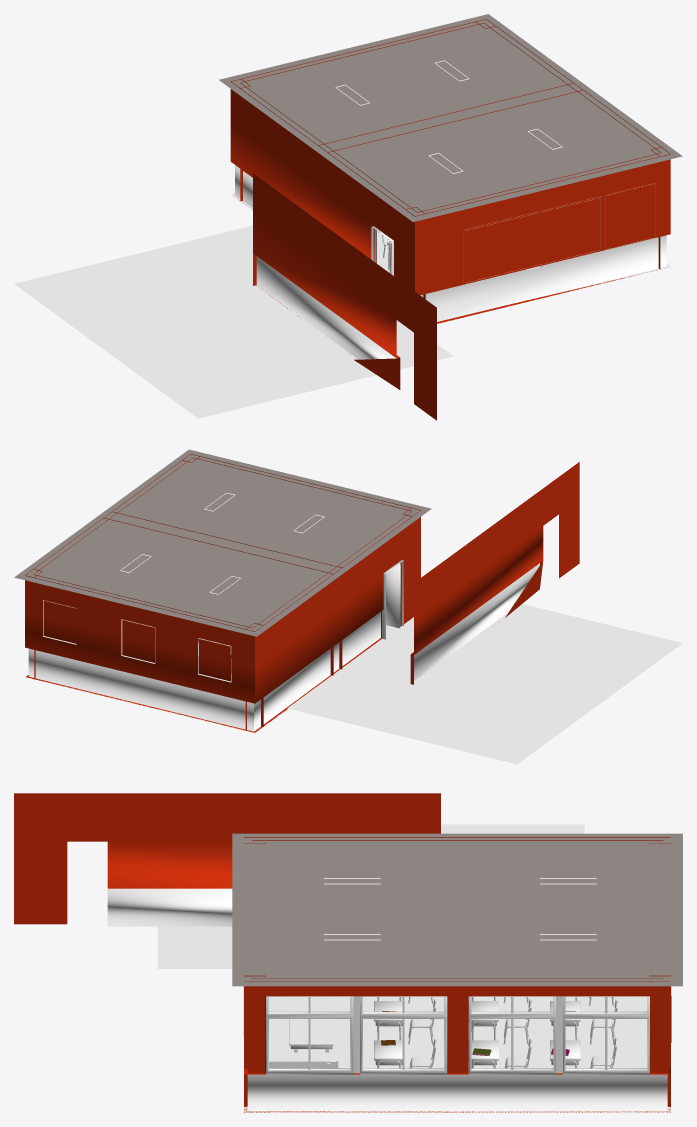
Rendered from school.glb.
3 views of the same model, one above another, from view 1: azimuth 30°, elevation 25°; view 2: azimuth 150°, elevation 25°; view 3: azimuth 270°, elevation 25° (orthographic). The views are drawn at different scales.
Visible parts, largest first — view 1: ceilling_16; view 2: ceilling_16; view 3: ceilling_16.
Part boxes in pixels (left/top/right/bottom): ceilling_16: left=14, top=14, right=682, bottom=420; ceilling_16: left=14, top=449, right=682, bottom=764; ceilling_16: left=14, top=793, right=682, bottom=1112.
Size of the model in its own units: 301 by 63.36 by 292.
